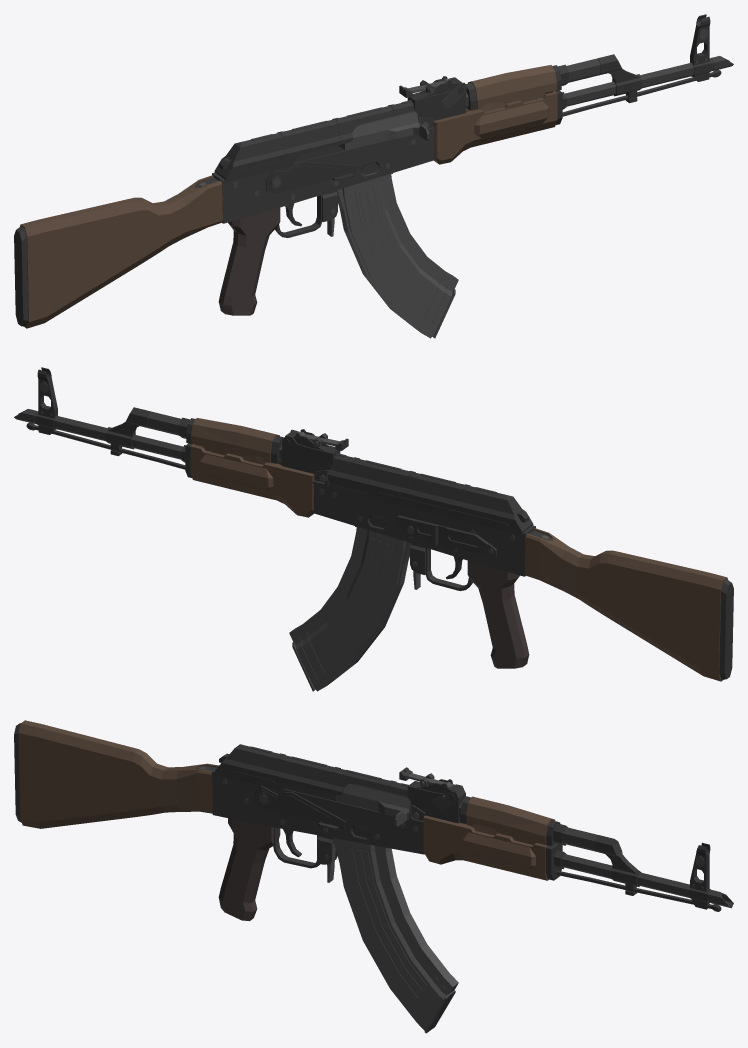
Rendered from gun_ak.glb.
The picture shows the model from 3 angles, top to bottom: view 1: azimuth 30°, elevation 25°; view 2: azimuth 150°, elevation 25°; view 3: azimuth 330°, elevation 25°; orthographic projection.
Size of the model in its own units: 944 by 322 by 55.65.
